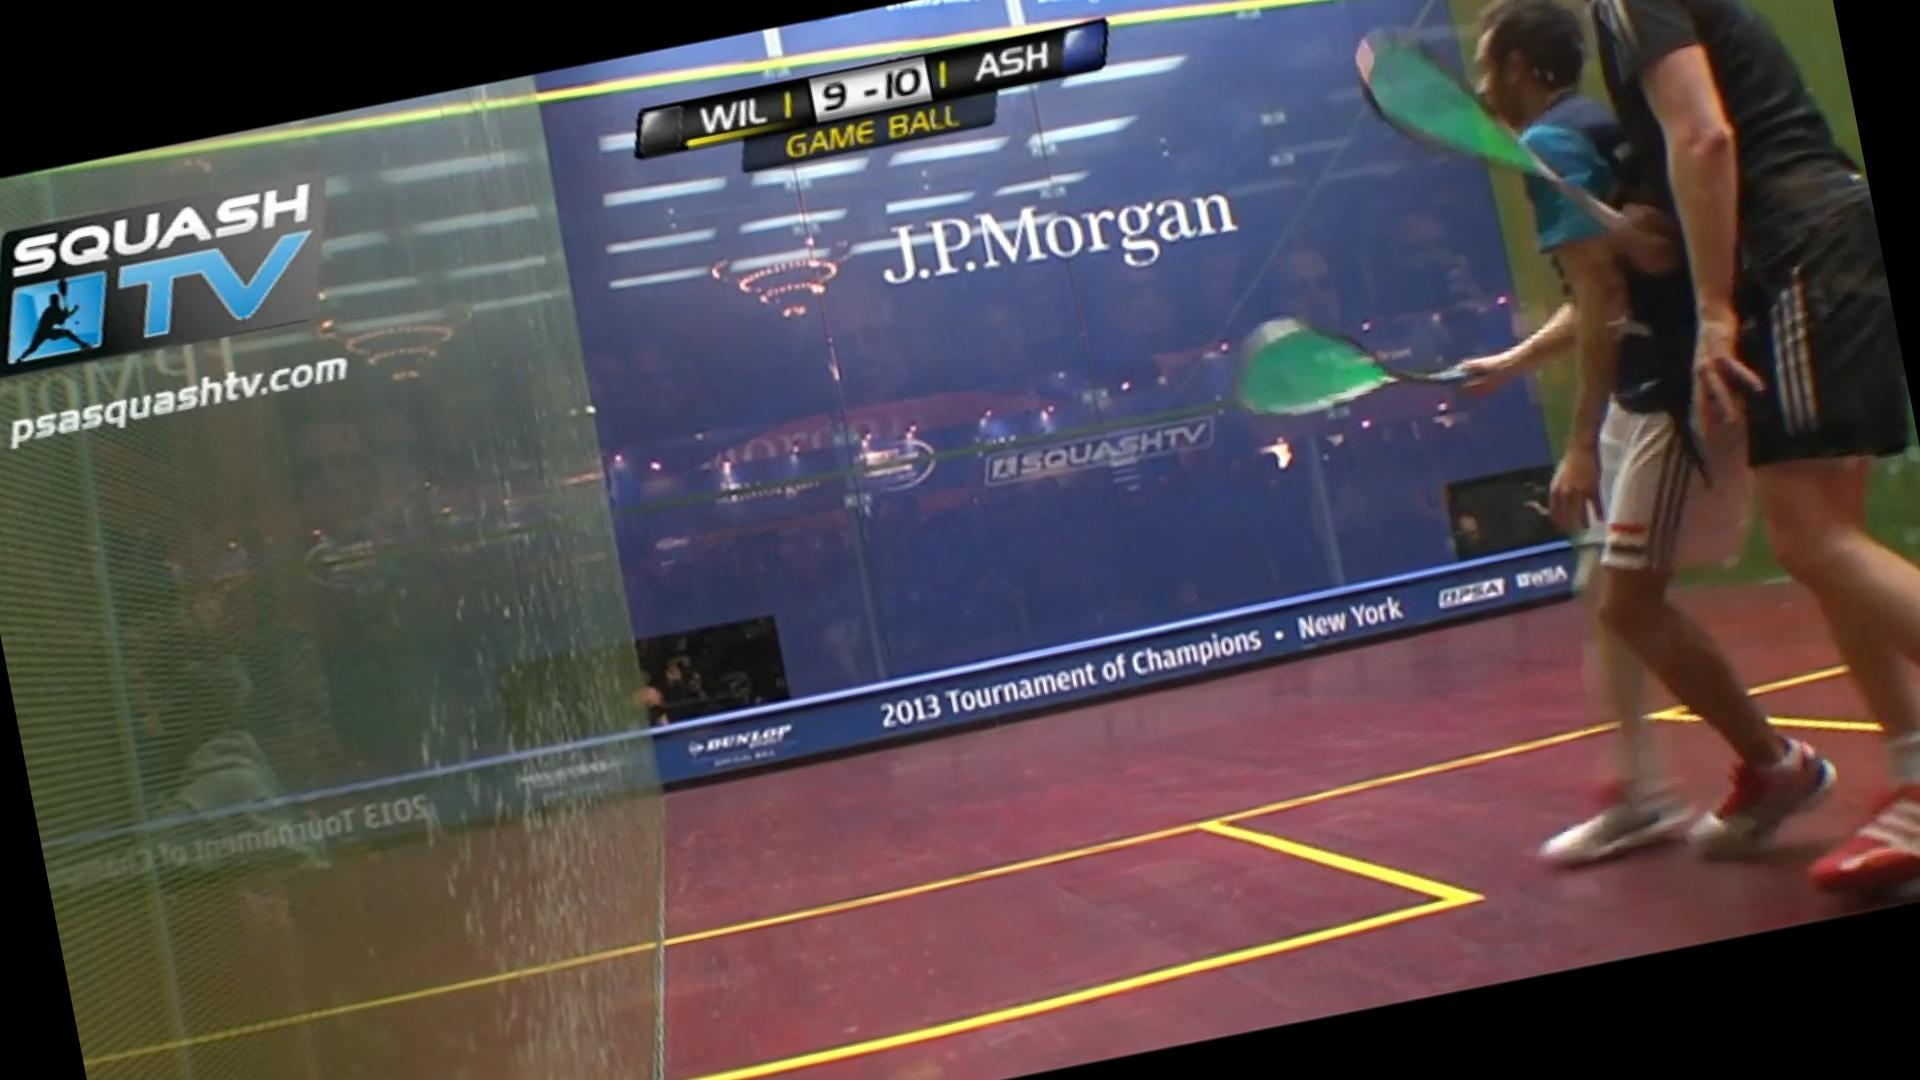Squash-Ball: (579, 393, 617, 435)
